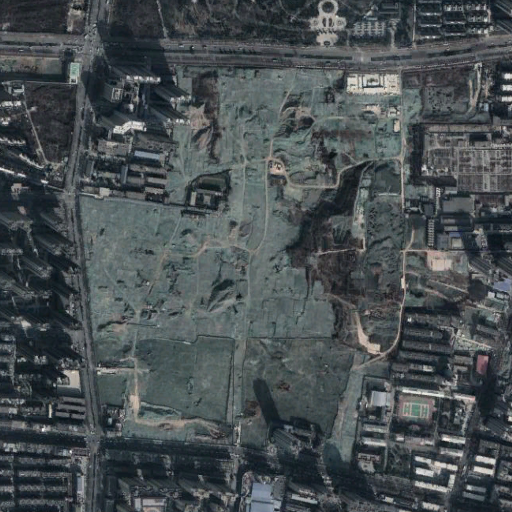cw: (73, 67, 411, 462)
